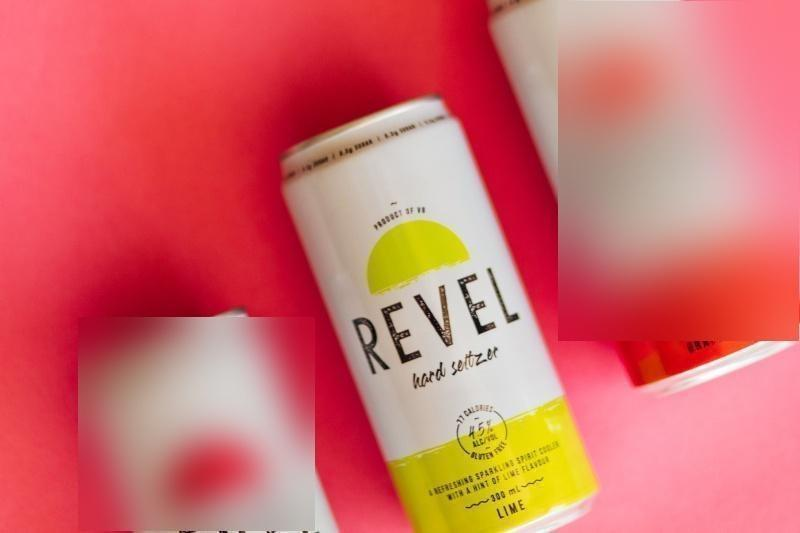tin can: (279, 92, 602, 531)
